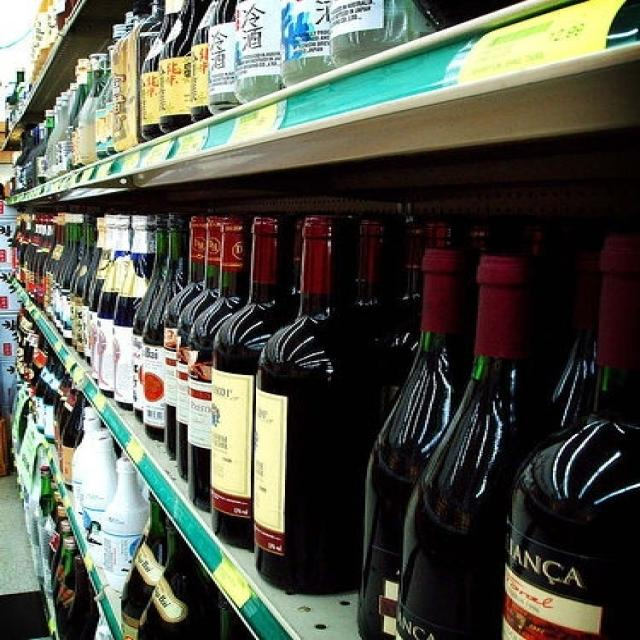Glass: (48, 205, 638, 639)
